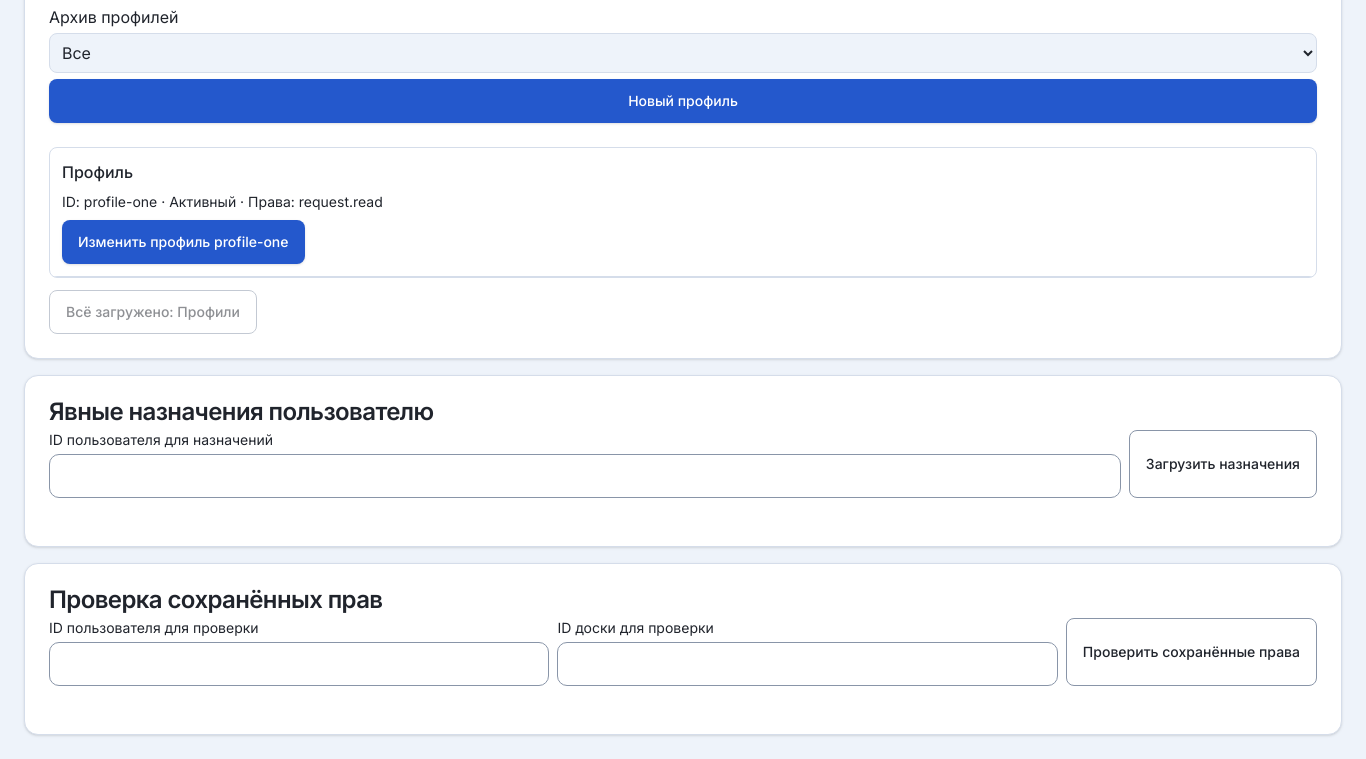
Test: privilege administration reads › hides mixed snapshots until explicit reload
(page scrolled)
Type "subject" into the field labelled "ID пользователя для назначений".
click(585, 476); type("subject")  # box [49,454,1121,498]
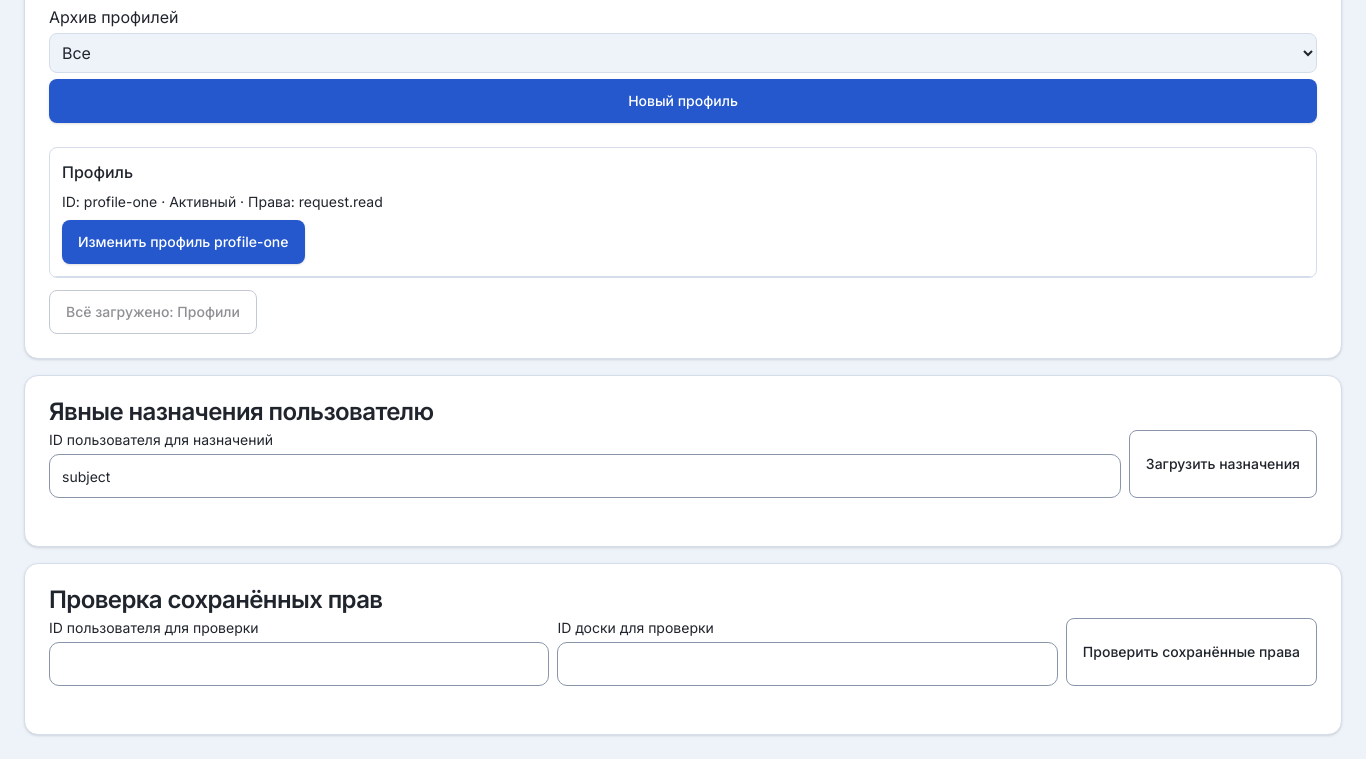
Click the button "Загрузить назначения".
click(1223, 464)  # box [1129,430,1317,498]
(page scrolled)
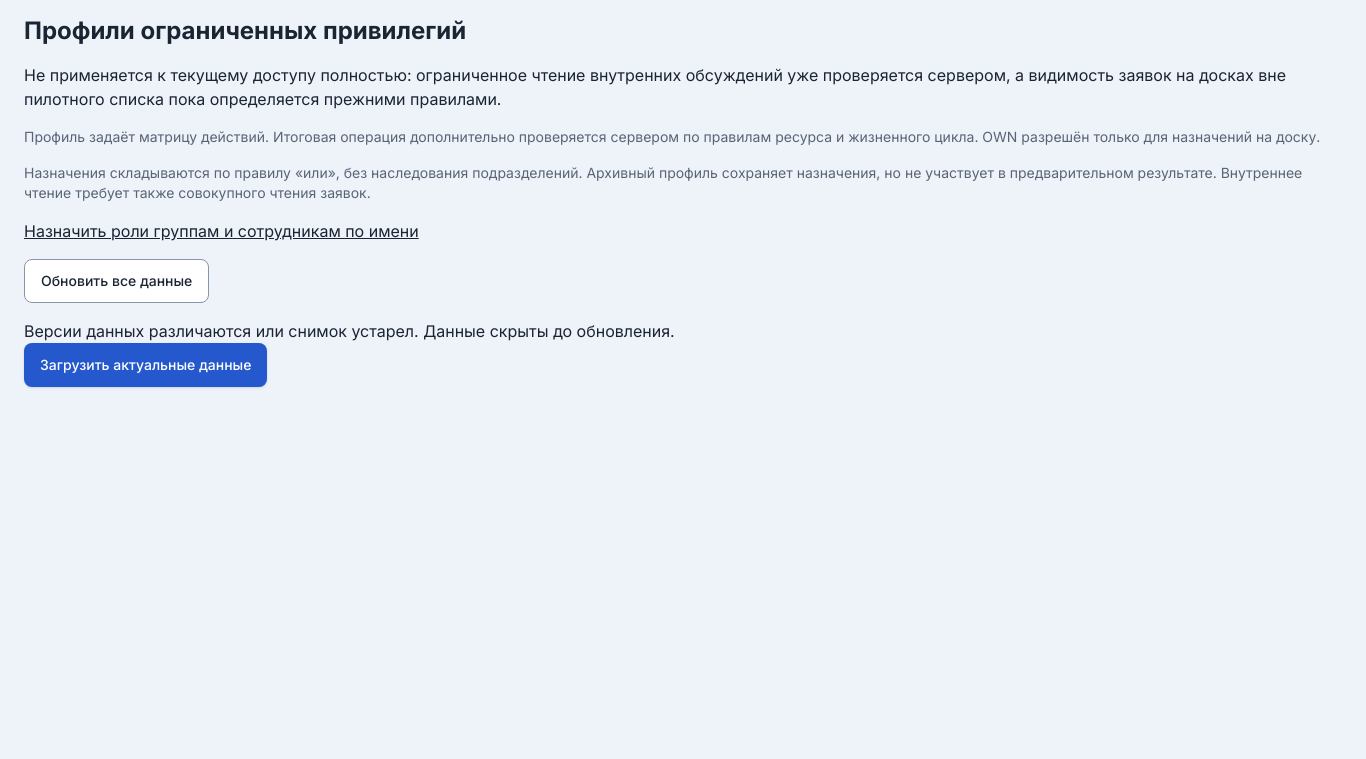
Check: the text "Версии данных различаются" is shown, box [24,321,675,341]
